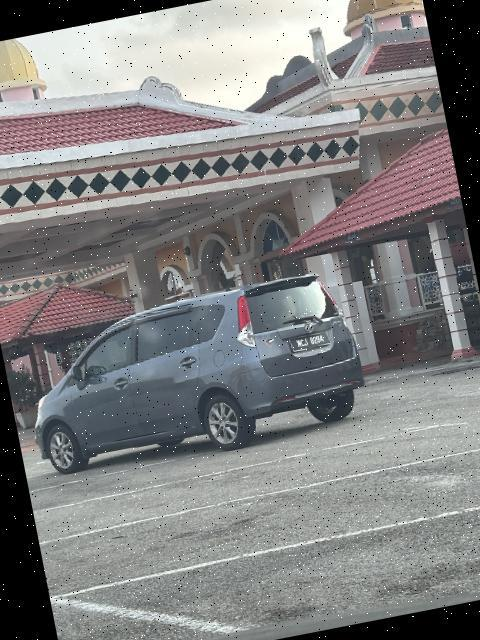License_Plate: (288, 329, 333, 356)
car: (11, 269, 377, 488)
